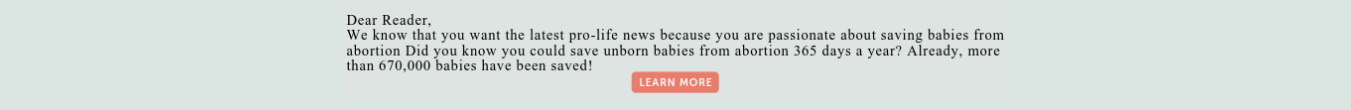fake_button: (623, 65, 742, 108)
